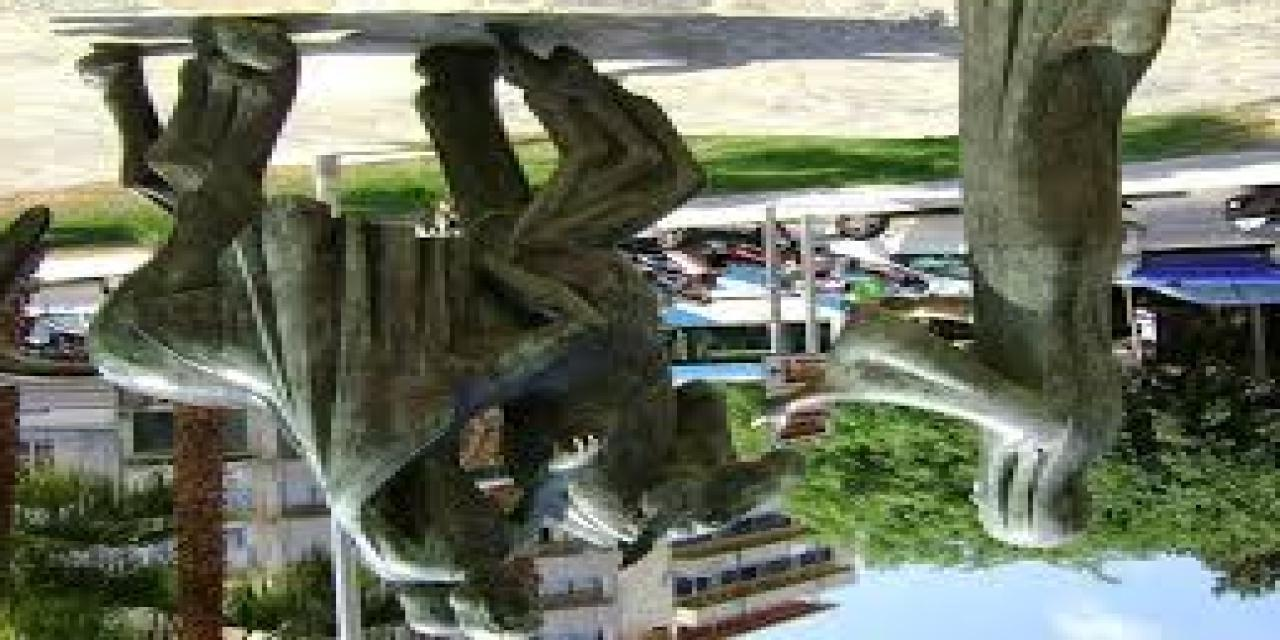Aretousa: (70, 1, 1168, 640)
